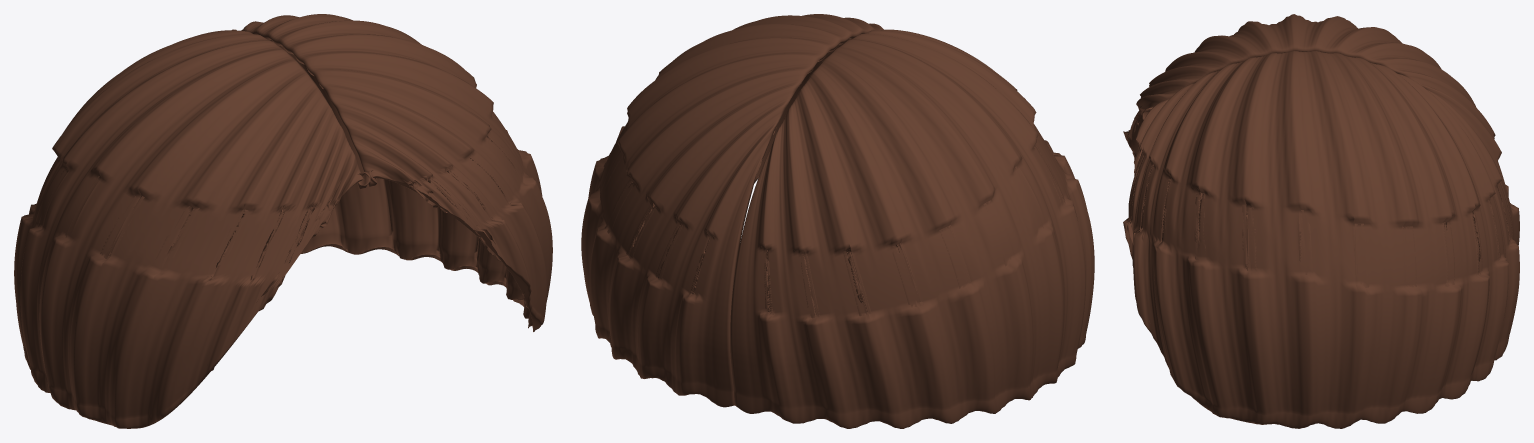
Rendered from Masculine-middle-part-headband252-hair.glb.
The picture shows the model from 3 angles, left to right: view 1: azimuth 30°, elevation 25°; view 2: azimuth 150°, elevation 25°; view 3: azimuth 270°, elevation 25°; orthographic projection. The views are drawn at different scales.
Parts seen in each view (by area): view 1: 226 hair / Hair252 / flowing sculpt middle.001; view 2: 226 hair / Hair252 / flowing sculpt middle.001; view 3: 226 hair / Hair252 / flowing sculpt middle.001.
Boxes of the visible parts, <box> form: 226 hair / Hair252 / flowing sculpt middle.001: <box>14,14,552,428</box>; 226 hair / Hair252 / flowing sculpt middle.001: <box>581,14,1094,428</box>; 226 hair / Hair252 / flowing sculpt middle.001: <box>1123,14,1519,428</box>.
Bounding box in the file's own units: 1.06 × 0.6587 × 0.8322.
